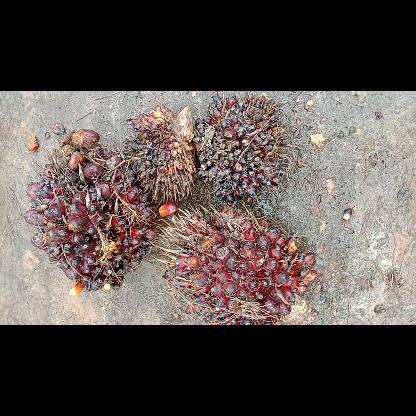Kurang masak: (25, 128, 157, 296)
TBS abnormal: (195, 95, 294, 202), (124, 105, 194, 202)
TBS masak: (150, 202, 318, 324)
